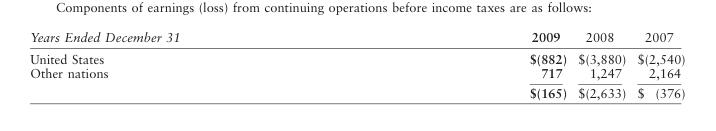table: (29, 28, 684, 99)
table column: (29, 28, 354, 99), (354, 28, 571, 99), (571, 28, 630, 99), (630, 28, 684, 99)
table column header: (29, 28, 684, 47)
table row: (29, 28, 684, 47), (29, 47, 684, 65), (29, 65, 684, 82), (29, 82, 684, 99)
